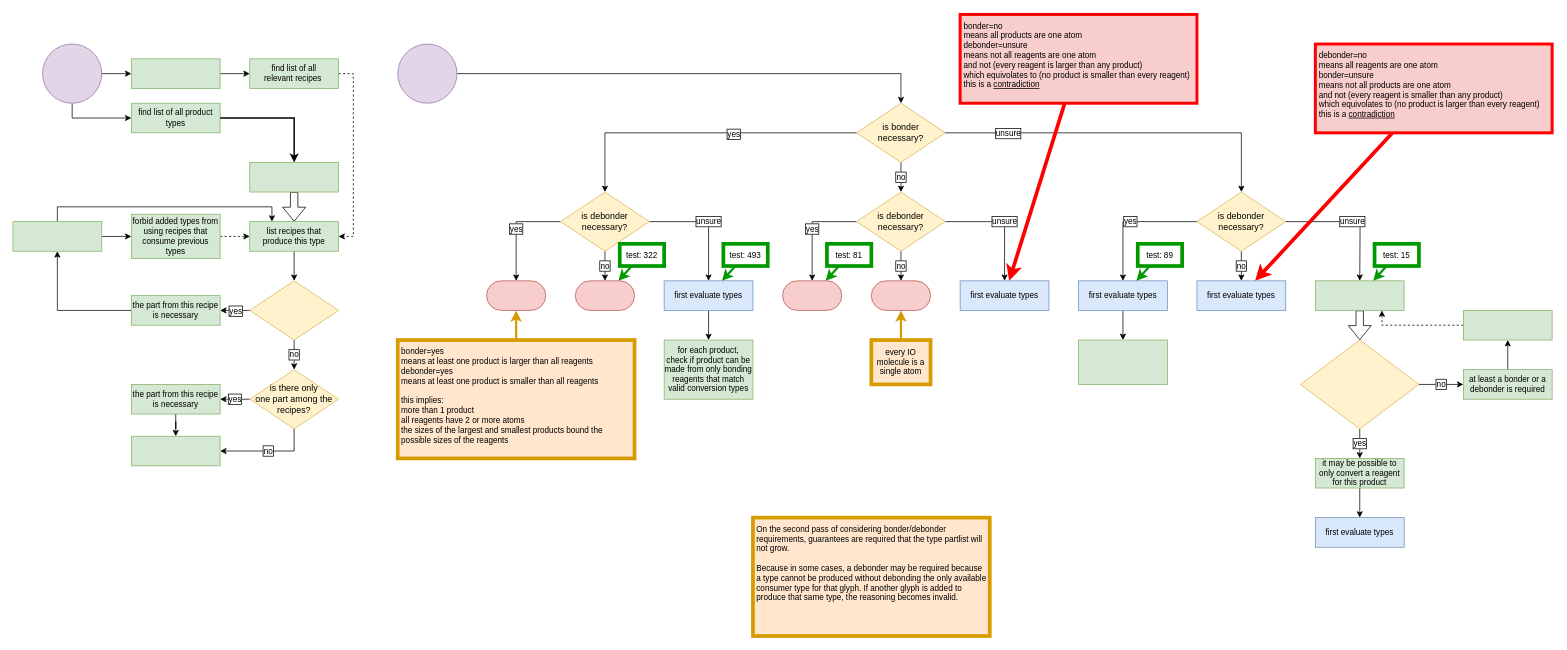
Some shapes in this 1567 by 650 pixel diagram are drawn without their labels. Here are the shapes that lost their labels. From the top down, the centre of each, then its label:
the point at 72,73: evaluate type constraints
the point at 175,73: find list of all puzzle parts
the point at 427,73: evaluate bond constraints
the point at 294,177: for each type
the point at 57,236: add every type consumed by this recipe to the list
the point at 294,310: is there only one recipe?
the point at 516,295: use both
the point at 605,295: only bonder
the point at 812,295: only debonder
the point at 901,295: neither
the point at 1359,295: for each product
the point at 1507,325: stop iterating every product
the point at 1122,361: for each product, check if product can be made from only debonding
the point at 1359,384: are there any reagents that match the shape and size of the product?
the point at 175,450: store list of recipes for unsolved satisfaction of this type
